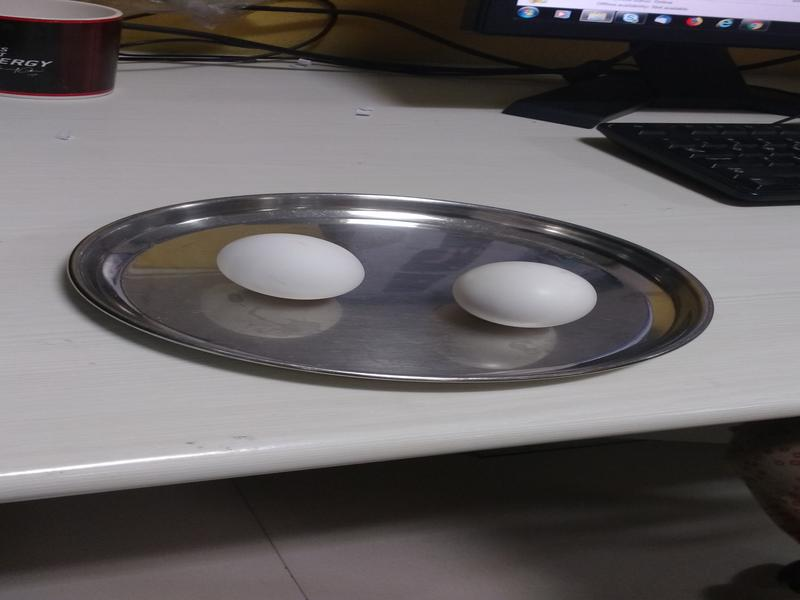egg: (217, 228, 366, 306)
